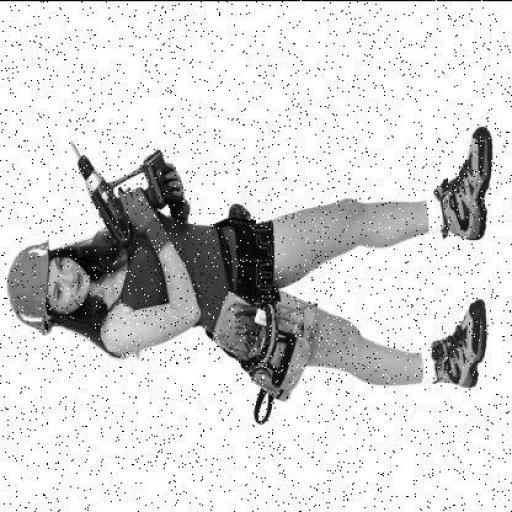safety_boots: (415, 124, 504, 246), (428, 296, 497, 406)
